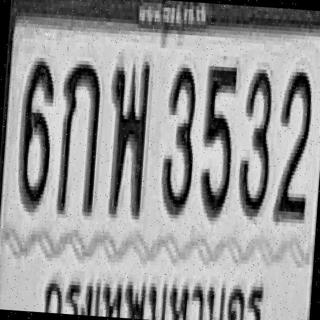A01: (55, 60, 102, 216)
A30: (103, 57, 151, 218)
N02: (273, 67, 314, 220)
N03: (159, 63, 199, 216), (236, 64, 276, 217)
N05: (197, 62, 238, 218)
N06: (16, 56, 56, 209)
